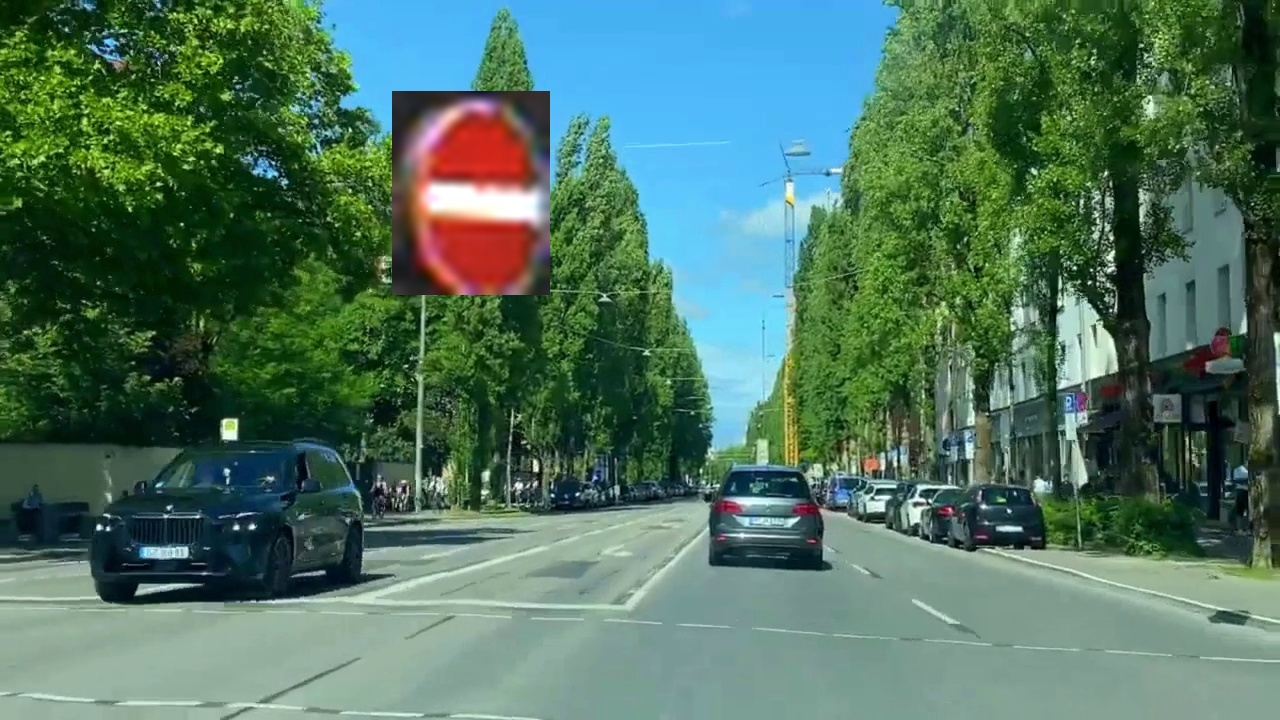No entry: (392, 91, 550, 295)
